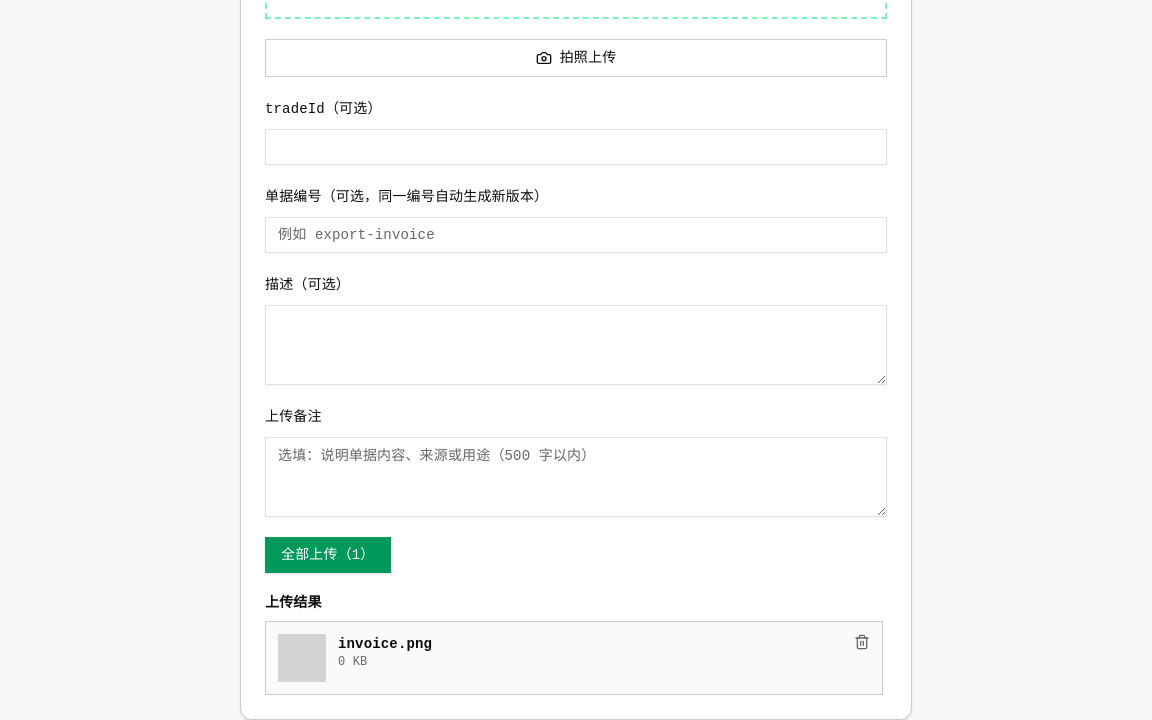
it: UploadPage › uploads a single selected file and shows hash in the result list
The image size is (1152, 720).
(page scrolled)
Step 1. Click the button "全部上传（1）" → (328, 555), box [265,537,390,573]
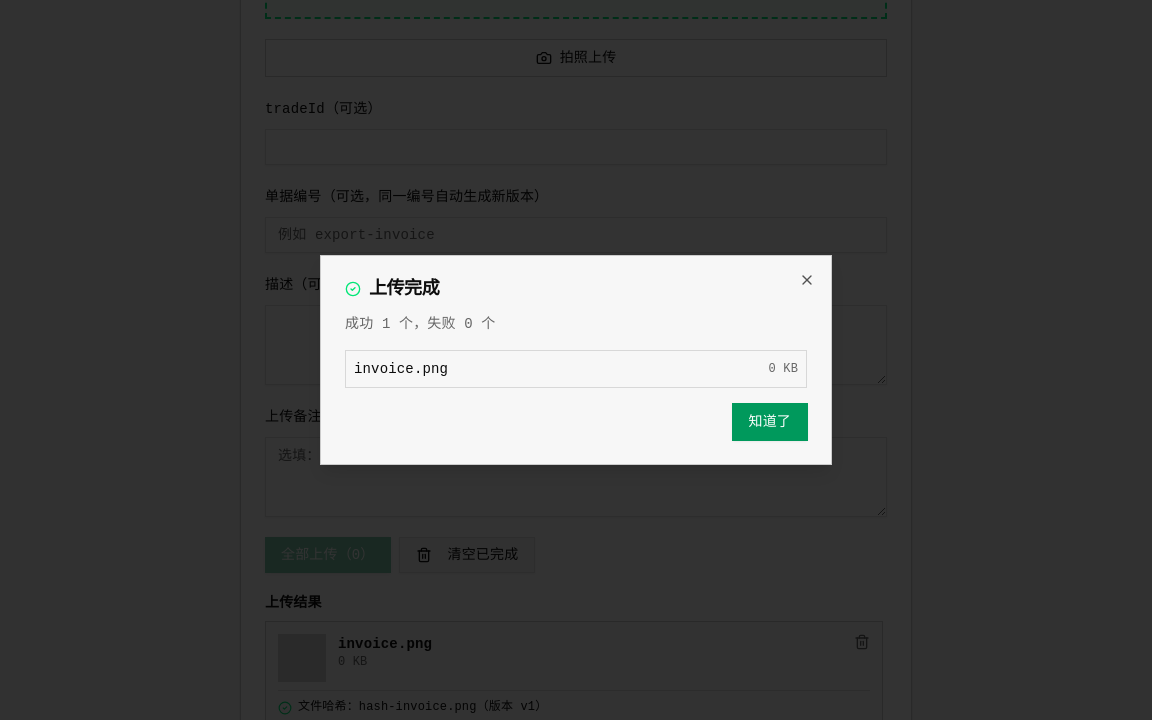
Expected: the text "invoice.png" below "上传结果" is shown, [338,636,432,652]
Result: the text "文件哈希：hash-invoice.png（版本 v1）" is shown at [298,699,547,715]
